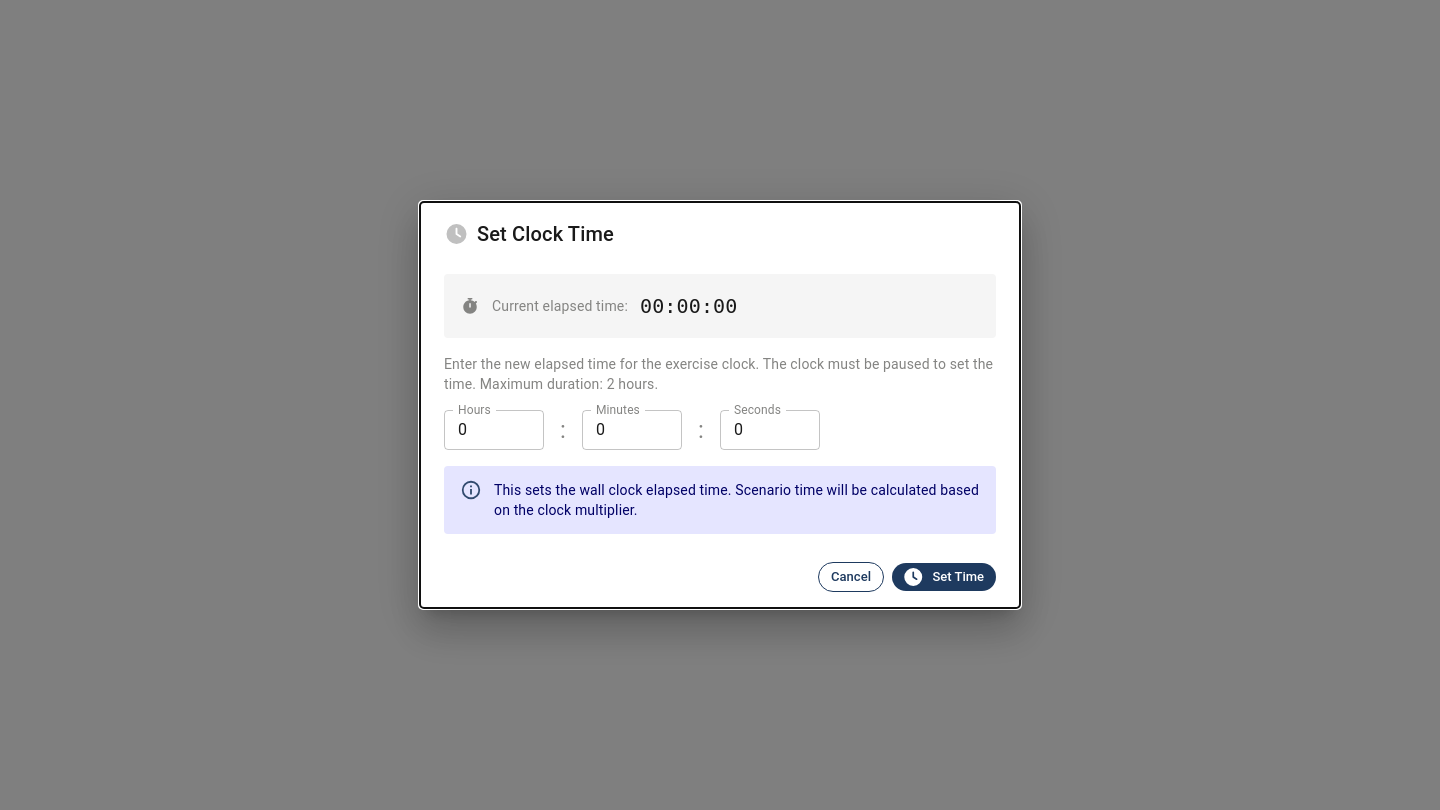
Scenario: SetClockTimeDialog › shows error when time exceeds max duration
# Set hours to 3 (exceeds max of 2)
Step 1. Replace the text in the number field labelled "Hours" with "3" → (494, 430), box [444, 410, 544, 450]
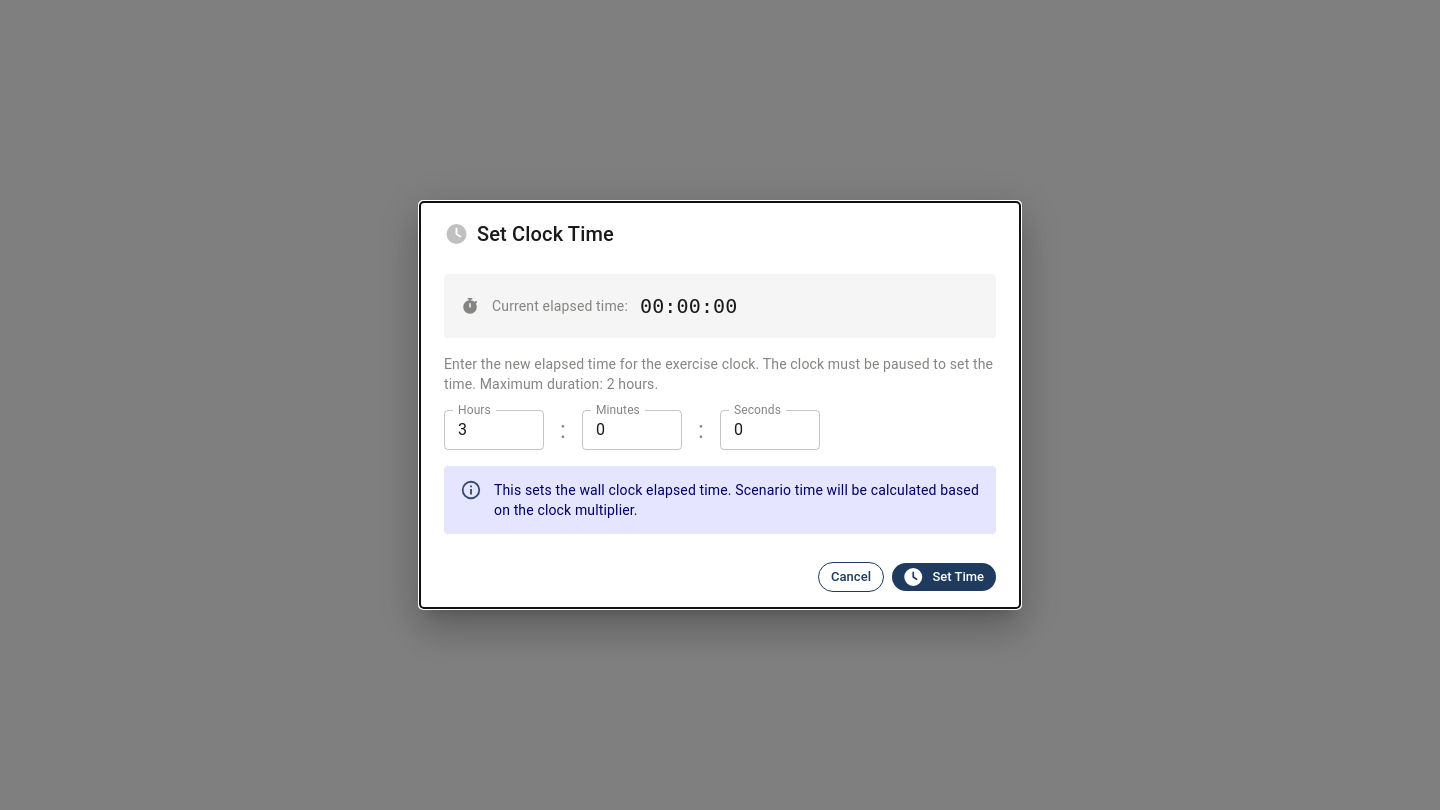
# Click confirm to trigger validation
Step 2. Click the button "Set Time" → (944, 577), box [892, 563, 996, 592]
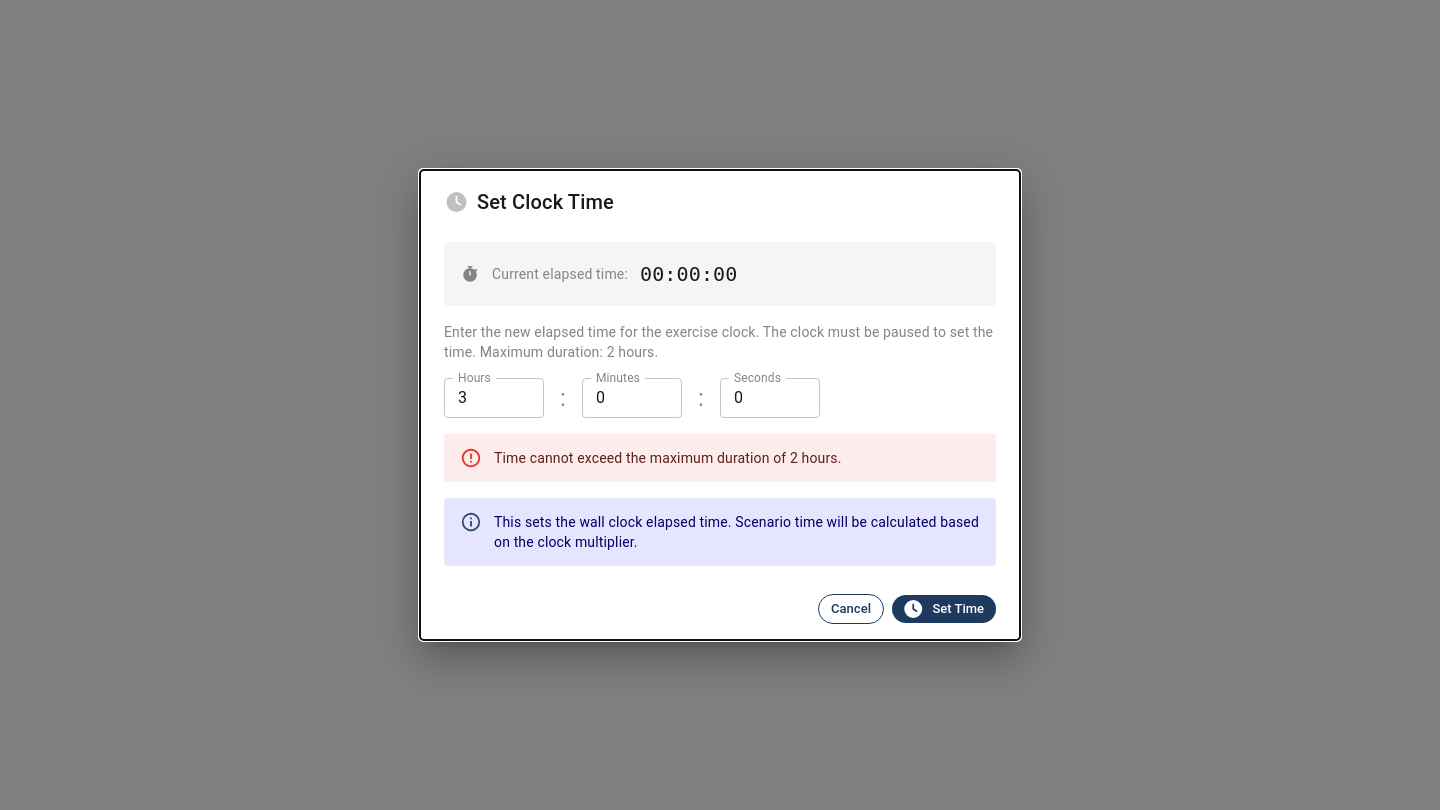
Now the text "Time cannot exceed the maximum duration of 2 hours." is shown, box [494, 450, 842, 466]
